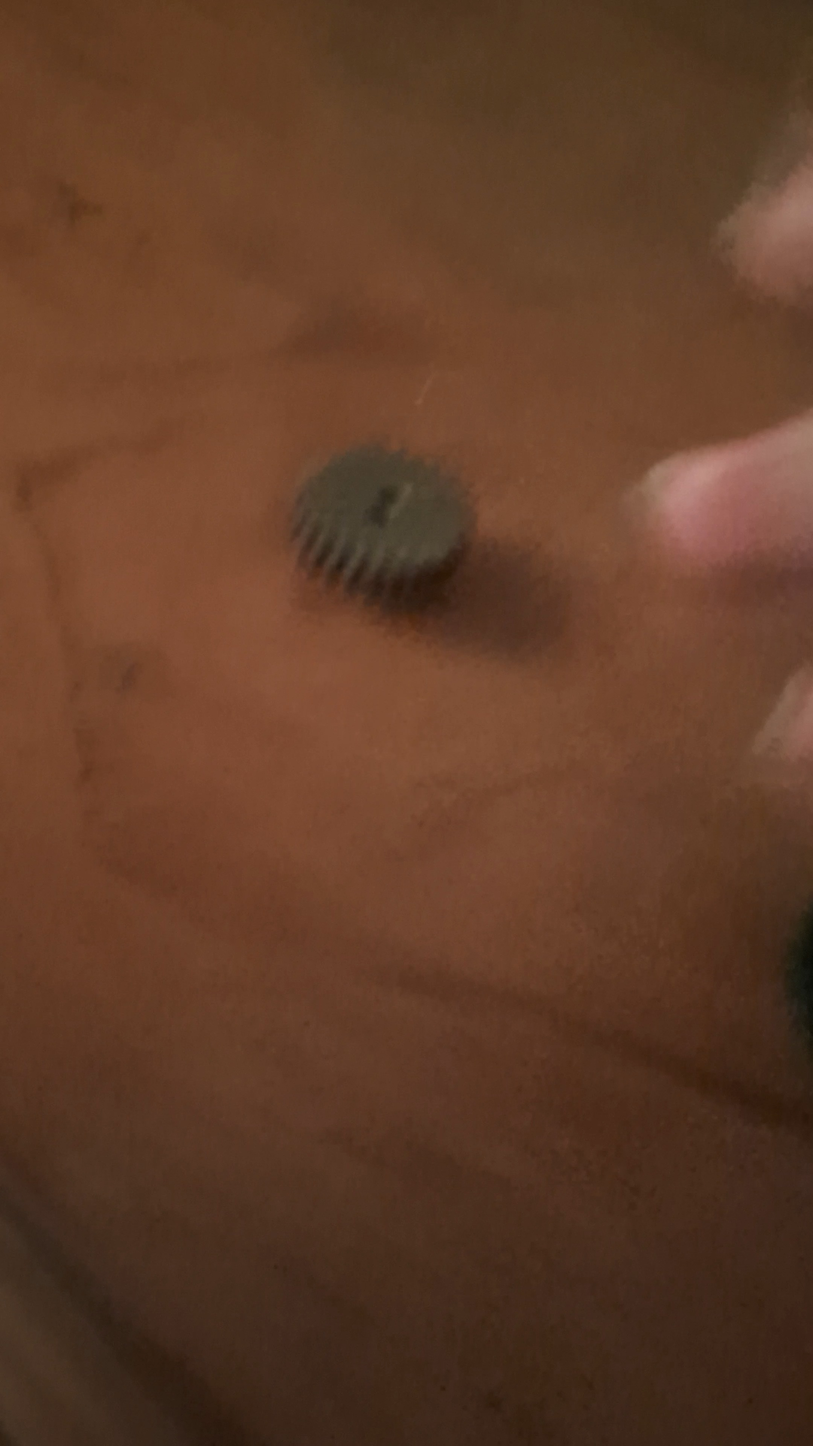spur gear: (292, 445, 472, 606)
